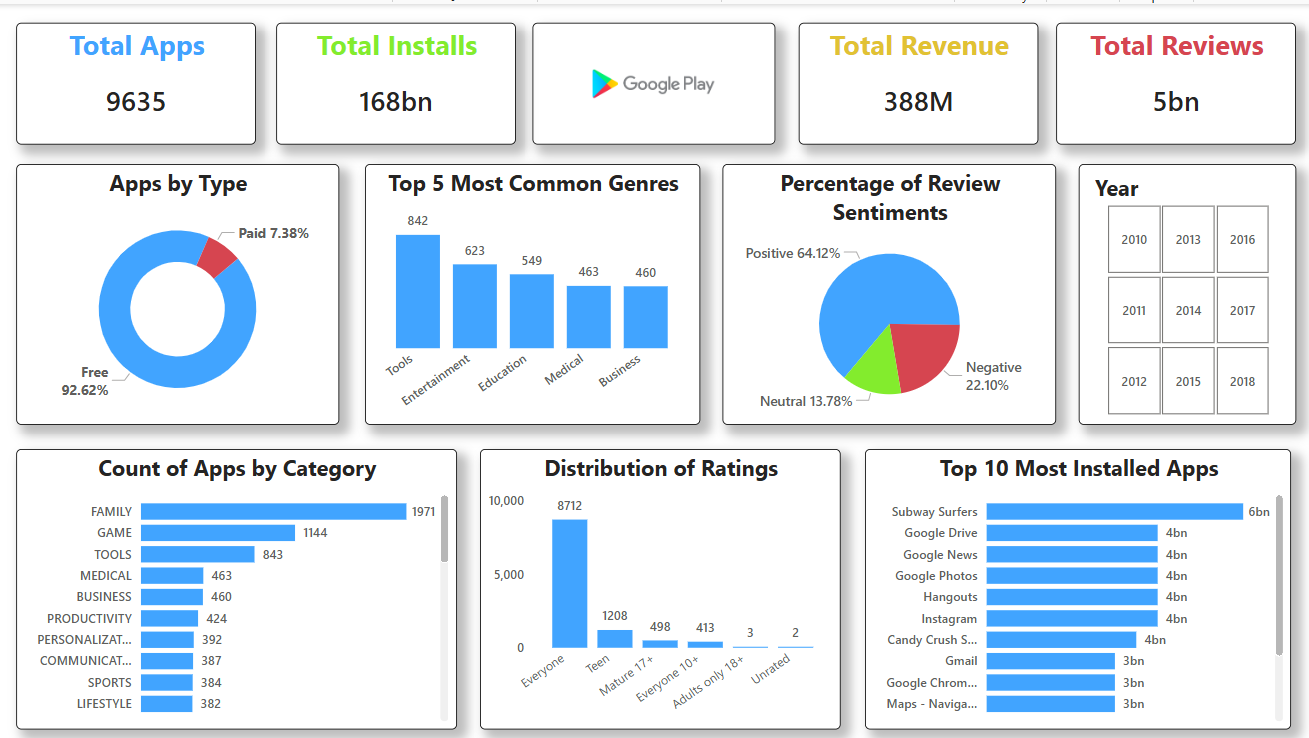

The page's visual inventory and layout, read from the dashboard file:
{"tool":"powerbi","page":{"name":"Page 1","canvas":[1280,720],"ordinal":0},"visuals":[{"type":"donutChart","title":"Apps by Type","fields":{"Category":["Table1.Type"],"Y":["CountNonNull(Table1.App)"]},"box":[16.5,156.4,315.6,255.2],"z":0},{"type":"image","box":[521.4,17.8,237.4,119.4],"z":1000},{"type":"card","title":"Total Apps","fields":{"Values":["Count(Table1.App)"]},"box":[16.5,17.8,234.6,119.4],"z":2000},{"type":"barChart","title":"Count of Apps by Category","fields":{"Category":["Table1.Category"],"Y":["CountNonNull(Table1.App)"]},"box":[16.5,435,430.9,274.4],"z":3000},{"type":"slicer","fields":{"Values":["Table1.Last Updated.Variation.Date Hierarchy.Year"]},"box":[1055.2,156.4,212.7,255.2],"z":4000},{"type":"card","title":"Total Installs","fields":{"Values":["Sum(Table1.Installs)"]},"box":[270.3,17.8,234.6,119.4],"z":5000},{"type":"card","title":"Total Revenue","fields":{"Values":["Table1.Revenue"]},"box":[780.8,17.8,234.6,119.4],"z":6000},{"type":"card","title":"Total Reviews","fields":{"Values":["Sum(Table1.Reviews)"]},"box":[1033.3,17.8,234.6,119.4],"z":7000},{"type":"clusteredColumnChart","title":"Top 5 Most Common Genres","fields":{"Category":["Table1.Genres"],"Y":["CountNonNull(Table1.App)"]},"box":[356.8,156.4,328,255.2],"z":8000},{"type":"barChart","title":"Top 10 Most Installed Apps","fields":{"Category":["Table1.App"],"Y":["Sum(Table1.Installs)"]},"box":[846.7,435,417.2,274.4],"z":9000},{"type":"pieChart","title":"Percentage of Review Sentiments","fields":{"Category":["Table1 (2).Sentiment"],"Y":["CountNonNull(Table1 (2).App)"]},"box":[706.7,156.4,326.6,255.2],"z":10000},{"type":"clusteredColumnChart","title":"Distribution of Ratings","fields":{"Category":["Table1.Content Rating"],"Y":["CountNonNull(Table1.App)"]},"box":[469.3,435,352.7,274.4],"z":11000}]}

Visuals, with their boxes in screenshot pixels (x1, y1, x2, y2), scaled from the page's 1280x720 canvas onto the 1309x738 screenshot:
"Apps by Type" donutChart: pyautogui.locateOnScreen(17, 160, 340, 422)
image: pyautogui.locateOnScreen(533, 18, 776, 141)
"Total Apps" card: pyautogui.locateOnScreen(17, 18, 257, 141)
"Count of Apps by Category" barChart: pyautogui.locateOnScreen(17, 446, 458, 727)
slicer - Table1.Last Updated.Variation.Date Hierarchy.Year: pyautogui.locateOnScreen(1079, 160, 1297, 422)
"Total Installs" card: pyautogui.locateOnScreen(276, 18, 516, 141)
"Total Revenue" card: pyautogui.locateOnScreen(798, 18, 1038, 141)
"Total Reviews" card: pyautogui.locateOnScreen(1057, 18, 1297, 141)
"Top 5 Most Common Genres" clusteredColumnChart: pyautogui.locateOnScreen(365, 160, 700, 422)
"Top 10 Most Installed Apps" barChart: pyautogui.locateOnScreen(866, 446, 1293, 727)
"Percentage of Review Sentiments" pieChart: pyautogui.locateOnScreen(723, 160, 1057, 422)
"Distribution of Ratings" clusteredColumnChart: pyautogui.locateOnScreen(480, 446, 841, 727)
